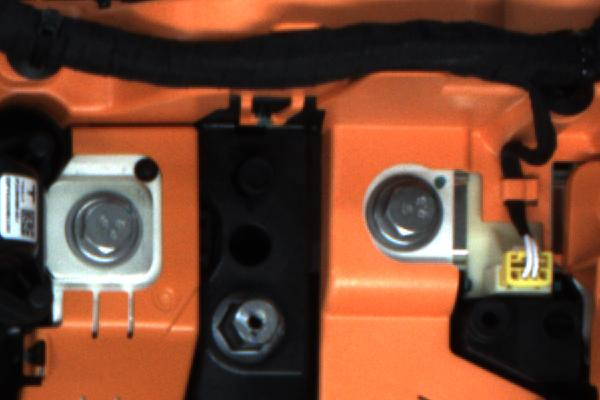nut_b: (360, 174, 448, 256), (69, 189, 149, 274)
